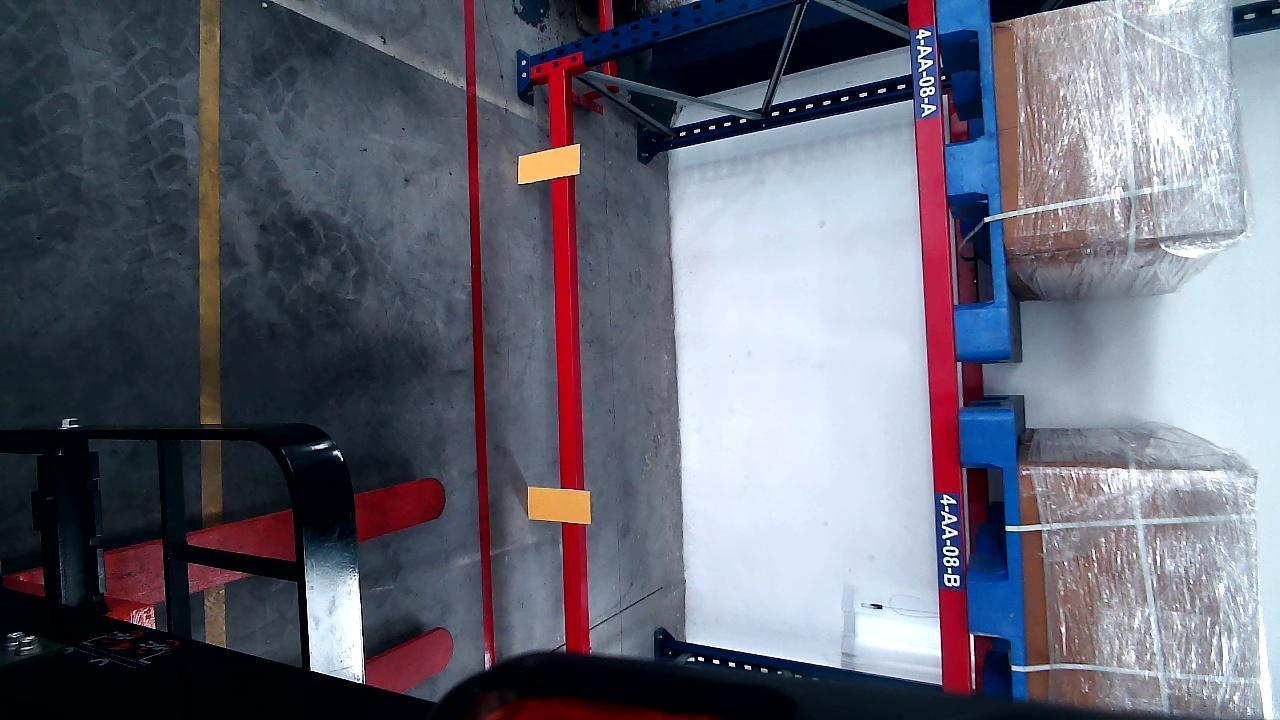h_rack: (909, 0, 969, 690), (546, 60, 588, 669)
orange_strip: (516, 144, 581, 184), (527, 486, 589, 524)
red_line: (461, 0, 499, 679)
small_pallet: (937, 0, 1009, 354), (963, 414, 1025, 693)
yellow_line: (197, 0, 223, 425)
